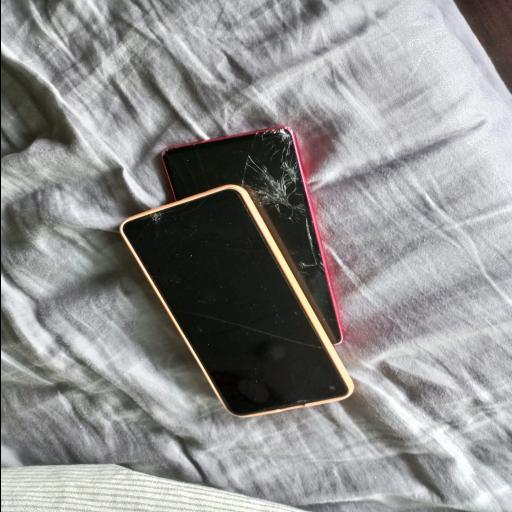phone: (120, 185, 352, 416), (162, 127, 341, 343)
